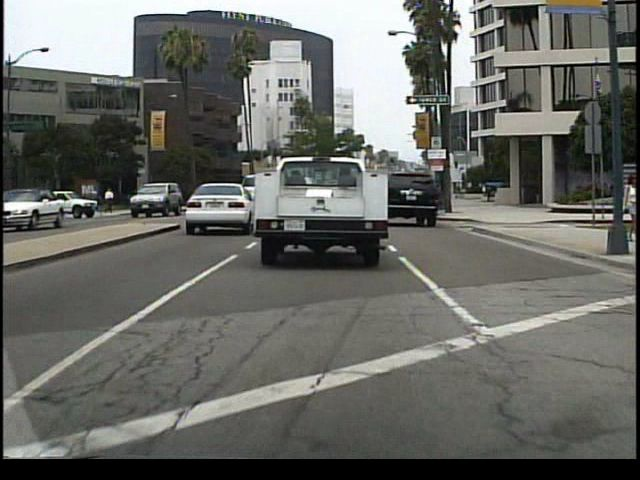person: (618, 168, 638, 245), (135, 182, 151, 212), (105, 184, 116, 216), (97, 187, 106, 215)
